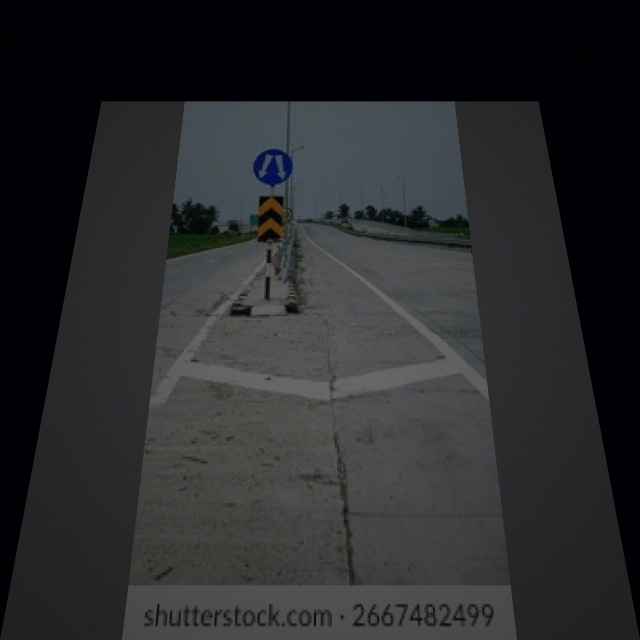Pass_Either_Side: (247, 145, 296, 189)
